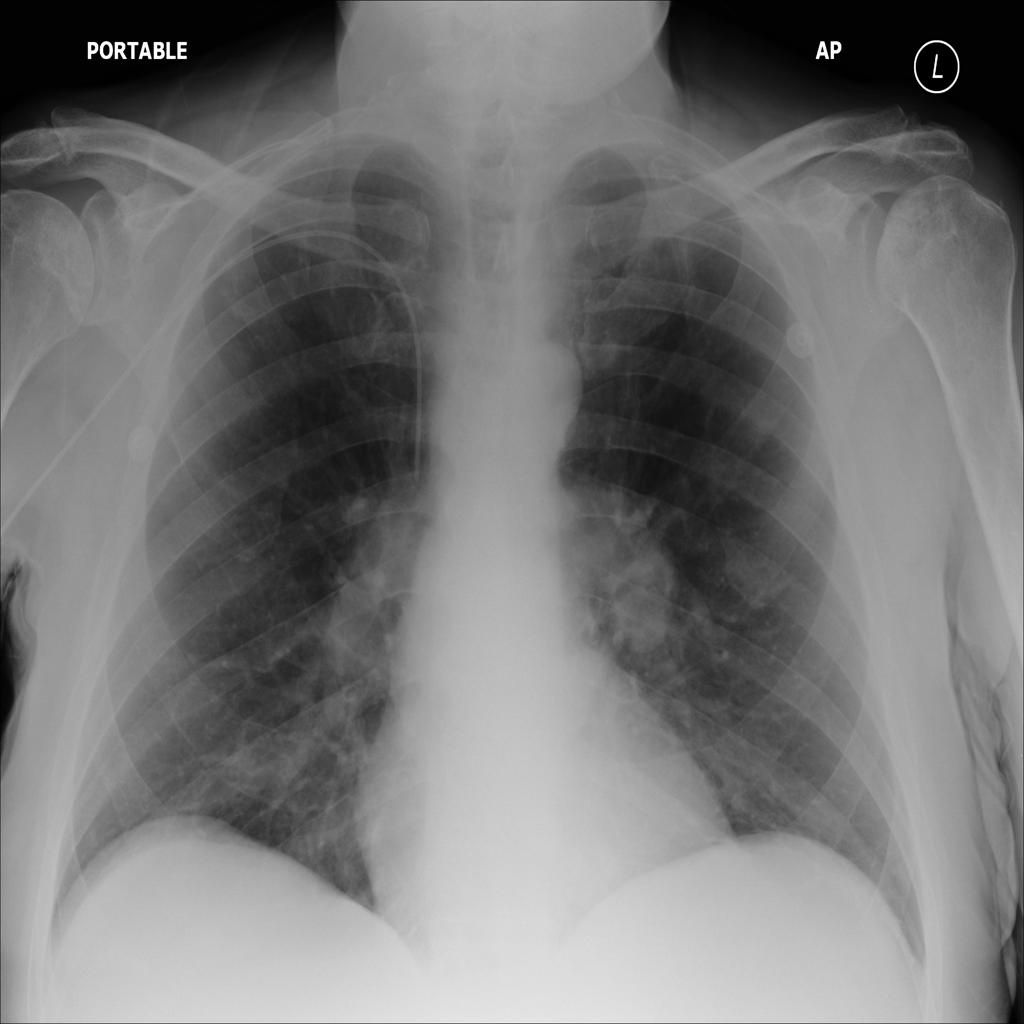nodule: (607, 547, 695, 670), (728, 377, 794, 460)
